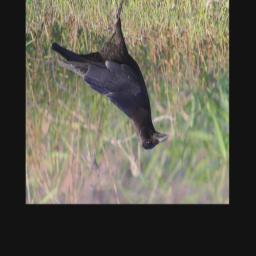Crow: (50, 0, 170, 152)
